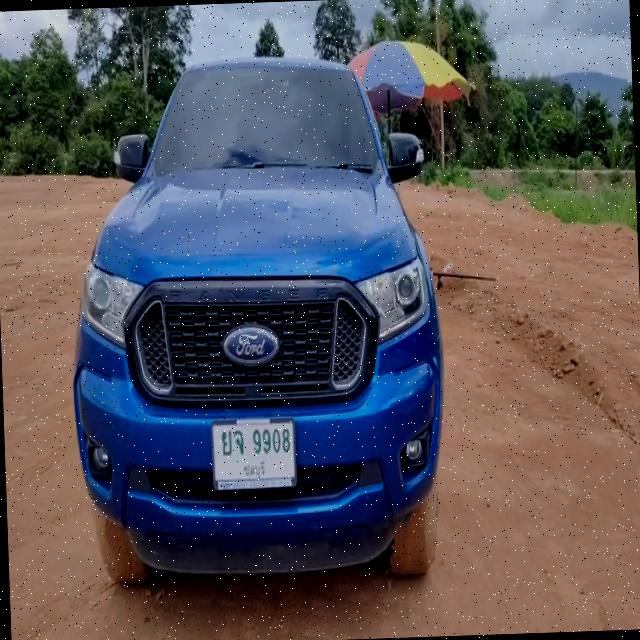Digit: (250, 426, 292, 456)
Licenseplate: (210, 418, 296, 488)
Provincename: (242, 460, 264, 479)
Thaichar: (220, 428, 244, 458)
